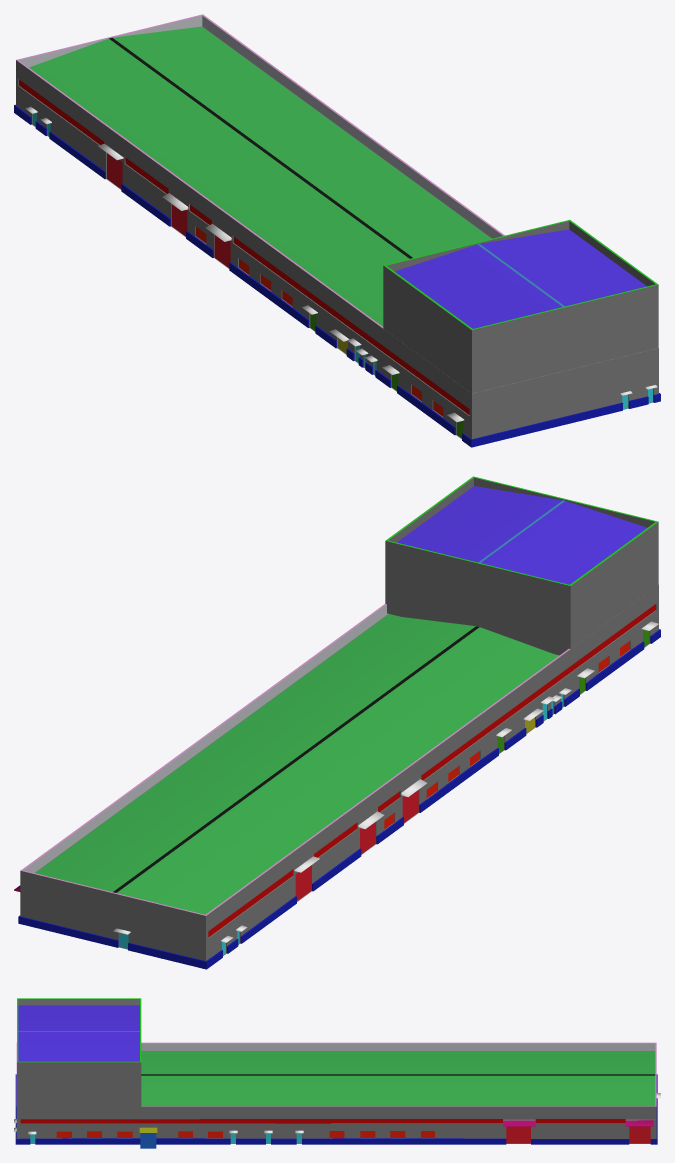
The model's file is shouyao.fbx.
3 views of the same model, one above another, from view 1: azimuth 30°, elevation 25°; view 2: azimuth 150°, elevation 25°; view 3: azimuth 270°, elevation 25° (orthographic). The views are drawn at different scales.
Parts seen in each view (by area): view 1: 对象001, Box001, Box002, 对象002; view 2: 对象001, Box001, Box002, 对象002; view 3: Box001, 对象001, Box002, 对象002, Box003.
Part boxes in pixels (bbox=[...]): 对象001: bbox=[29, 26, 491, 326]; Box001: bbox=[14, 14, 660, 447]; Box002: bbox=[383, 220, 658, 393]; 对象002: bbox=[395, 229, 646, 328]; 对象001: bbox=[35, 614, 559, 914]; Box001: bbox=[14, 584, 660, 969]; Box002: bbox=[385, 476, 658, 655]; 对象002: bbox=[397, 486, 647, 584]; Box001: bbox=[15, 1042, 657, 1144]; 对象001: bbox=[141, 1051, 655, 1106]; Box002: bbox=[17, 998, 141, 1106]; 对象002: bbox=[18, 1005, 139, 1061]; Box003: bbox=[140, 1133, 156, 1148].
Bounding box in the file's own units: 34.24 × 18.17 × 130.
